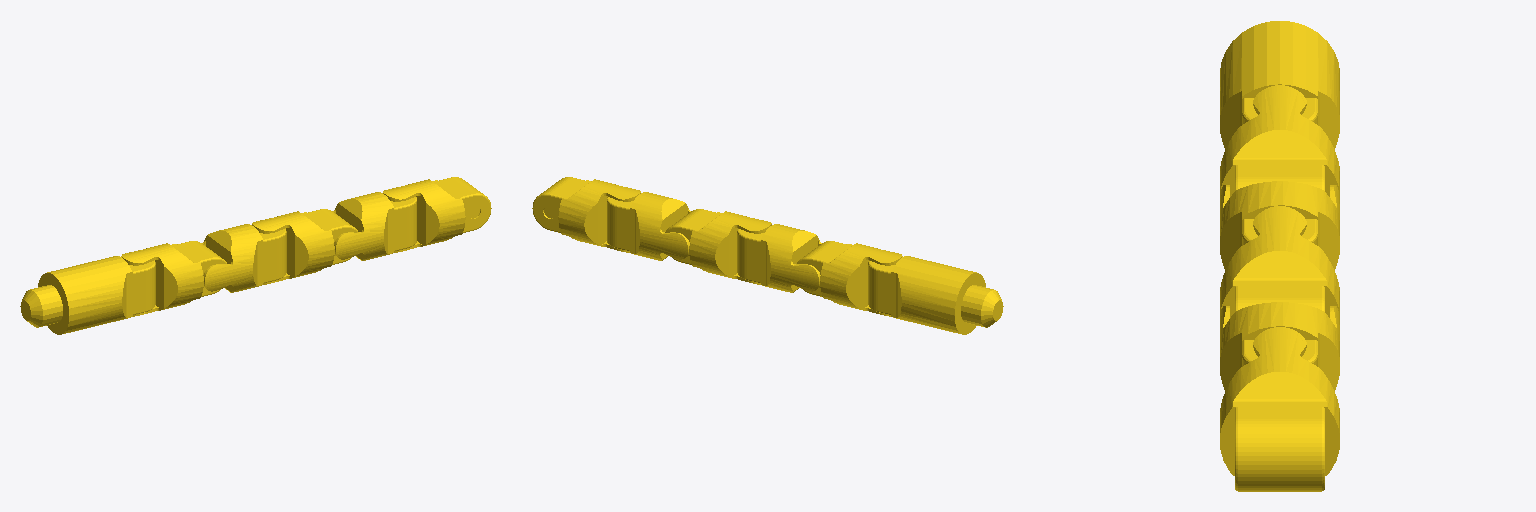
The robot description file, URDF, robot "kanake6":
<?xml version="1.0" encoding="utf-8"?>
<!-- This URDF was automatically created by SolidWorks to URDF Exporter! Originally created by Stephen Brawner (brawner@gmail.com) 
     Commit Version: 1.6.0-1-g15f4949  Build Version: 1.6.7594.29634
     For more information, please see http://wiki.ros.org/sw_urdf_exporter -->
<robot
  name="kanake6">
  <link
    name="tail">
    <inertial>
      <origin
        xyz="0.042357 2.0001E-08 -2.3091E-09"
        rpy="0 0 0" />
      <mass
        value="0.097262" />
      <inertia
        ixx="1.3388E-05"
        ixy="-1.0303E-11"
        ixz="1.1792E-12"
        iyy="4.4738E-05"
        iyz="-3.263E-13"
        izz="4.3885E-05" />
    </inertial>
    <visual>
      <origin
        xyz="0 0 0"
        rpy="0 0 0" />
      <geometry>
        <mesh
          filename="package://kanake6_sim/meshes/tail.STL" />
      </geometry>
      <material
        name="">
        <color
          rgba="1 0.8629 0.1568 1" />
      </material>
    </visual>
    <collision>
      <origin
        xyz="0 0 0"
        rpy="0 0 0" />
      <geometry>
        <mesh
          filename="package://kanake6_sim/meshes/tail.STL" />
      </geometry>
    </collision>
  </link>
  <link
    name="Link15">
    <inertial>
      <origin
        xyz="0.028014 -4.451E-09 2.2161E-08"
        rpy="0 0 0" />
      <mass
        value="0.06907" />
      <inertia
        ixx="9.6694E-06"
        ixy="-1.3944E-11"
        ixz="8.3913E-12"
        iyy="1.5822E-05"
        iyz="9.5867E-11"
        izz="1.5931E-05" />
    </inertial>
    <visual>
      <origin
        xyz="0 0 0"
        rpy="0 0 0" />
      <geometry>
        <mesh
          filename="package://kanake6_sim/meshes/Link15.STL" />
      </geometry>
      <material
        name="">
        <color
          rgba="1 0.8629 0.1568 1" />
      </material>
    </visual>
    <collision>
      <origin
        xyz="0 0 0"
        rpy="0 0 0" />
      <geometry>
        <mesh
          filename="package://kanake6_sim/meshes/Link15.STL" />
      </geometry>
    </collision>
  </link>
  <joint
    name="j16"
    type="revolute">
    <origin
      xyz="0.07155 0 0"
      rpy="0 0 0" />
    <parent
      link="tail" />
    <child
      link="Link15" />
    <axis
      xyz="1 0 0" />
    <limit
      lower="-1.57"
      upper="1.57"
      effort="10"
      velocity="10" />
  </joint>
  <link
    name="Link14">
    <inertial>
      <origin
        xyz="0.028014 -4.451E-09 2.2161E-08"
        rpy="0 0 0" />
      <mass
        value="0.06907" />
      <inertia
        ixx="9.6694E-06"
        ixy="-1.3944E-11"
        ixz="8.3913E-12"
        iyy="1.5822E-05"
        iyz="9.5867E-11"
        izz="1.5931E-05" />
    </inertial>
    <visual>
      <origin
        xyz="0 0 0"
        rpy="0 0 0" />
      <geometry>
        <mesh
          filename="package://kanake6_sim/meshes/Link14.STL" />
      </geometry>
      <material
        name="">
        <color
          rgba="1 0.8629 0.1568 1" />
      </material>
    </visual>
    <collision>
      <origin
        xyz="0 0 0"
        rpy="0 0 0" />
      <geometry>
        <mesh
          filename="package://kanake6_sim/meshes/Link14.STL" />
      </geometry>
    </collision>
  </link>
  <joint
    name="j15"
    type="revolute">
    <origin
      xyz="0.0426 0 0"
      rpy="-1.5708 0 0" />
    <parent
      link="Link15" />
    <child
      link="Link14" />
    <axis
      xyz="1 0 0" />
    <limit
      lower="-1.57"
      upper="1.57"
      effort="10"
      velocity="10" />
  </joint>
  <link
    name="Link13">
    <inertial>
      <origin
        xyz="0.028014 -4.451E-09 2.2161E-08"
        rpy="0 0 0" />
      <mass
        value="0.06907" />
      <inertia
        ixx="9.6694E-06"
        ixy="-1.3944E-11"
        ixz="8.3913E-12"
        iyy="1.5822E-05"
        iyz="9.5867E-11"
        izz="1.5931E-05" />
    </inertial>
    <visual>
      <origin
        xyz="0 0 0"
        rpy="0 0 0" />
      <geometry>
        <mesh
          filename="package://kanake6_sim/meshes/Link13.STL" />
      </geometry>
      <material
        name="">
        <color
          rgba="1 0.8629 0.1568 1" />
      </material>
    </visual>
    <collision>
      <origin
        xyz="0 0 0"
        rpy="0 0 0" />
      <geometry>
        <mesh
          filename="package://kanake6_sim/meshes/Link13.STL" />
      </geometry>
    </collision>
  </link>
  <joint
    name="j14"
    type="revolute">
    <origin
      xyz="0.0426 0 0"
      rpy="1.5708 0 0" />
    <parent
      link="Link14" />
    <child
      link="Link13" />
    <axis
      xyz="0 0 1" />
    <limit
      lower="-1.57"
      upper="1.57"
      effort="10"
      velocity="10" />
  </joint>
  <link
    name="Link12">
    <inertial>
      <origin
        xyz="0.028014 -4.451E-09 2.2161E-08"
        rpy="0 0 0" />
      <mass
        value="0.06907" />
      <inertia
        ixx="9.6694E-06"
        ixy="-1.3944E-11"
        ixz="8.3913E-12"
        iyy="1.5822E-05"
        iyz="9.5867E-11"
        izz="1.5931E-05" />
    </inertial>
    <visual>
      <origin
        xyz="0 0 0"
        rpy="0 0 0" />
      <geometry>
        <mesh
          filename="package://kanake6_sim/meshes/Link12.STL" />
      </geometry>
      <material
        name="">
        <color
          rgba="1 0.8629 0.1568 1" />
      </material>
    </visual>
    <collision>
      <origin
        xyz="0 0 0"
        rpy="0 0 0" />
      <geometry>
        <mesh
          filename="package://kanake6_sim/meshes/Link12.STL" />
      </geometry>
    </collision>
  </link>
  <joint
    name="j13"
    type="revolute">
    <origin
      xyz="0.0426 0 0"
      rpy="-1.5708 0 0" />
    <parent
      link="Link13" />
    <child
      link="Link12" />
    <axis
      xyz="1 0 0" />
    <limit
      lower="-1.57"
      upper="1.57"
      effort="10"
      velocity="10" />
  </joint>
  <link
    name="Link11">
    <inertial>
      <origin
        xyz="0.028014 -4.451E-09 2.2161E-08"
        rpy="0 0 0" />
      <mass
        value="0.06907" />
      <inertia
        ixx="9.6694E-06"
        ixy="-1.3944E-11"
        ixz="8.3913E-12"
        iyy="1.5822E-05"
        iyz="9.5867E-11"
        izz="1.5931E-05" />
    </inertial>
    <visual>
      <origin
        xyz="0 0 0"
        rpy="0 0 0" />
      <geometry>
        <mesh
          filename="package://kanake6_sim/meshes/Link11.STL" />
      </geometry>
      <material
        name="">
        <color
          rgba="1 0.8629 0.1568 1" />
      </material>
    </visual>
    <collision>
      <origin
        xyz="0 0 0"
        rpy="0 0 0" />
      <geometry>
        <mesh
          filename="package://kanake6_sim/meshes/Link11.STL" />
      </geometry>
    </collision>
  </link>
  <joint
    name="j12"
    type="revolute">
    <origin
      xyz="0.0426 0 0"
      rpy="1.5708 0 0" />
    <parent
      link="Link12" />
    <child
      link="Link11" />
    <axis
      xyz="0 0 1" />
    <limit
      lower="-1.57"
      upper="1.57"
      effort="10"
      velocity="10" />
   </joint>
</robot>

--- Render facts (derived) ---
The picture shows the robot from 3 angles, left to right: view 1: azimuth 30°, elevation 25°; view 2: azimuth 150°, elevation 25°; view 3: azimuth 270°, elevation 25°; orthographic projection.
Model kanake6 with 6 links and 5 joints (5 revolute), rooted at tail, posed every joint at zero.
Links seen in each view (by area): view 1: tail, Link14, Link11, Link12, Link15, Link13; view 2: tail, Link14, Link11, Link12, Link15, Link13; view 3: Link11, tail, Link15, Link13, Link12, Link14.
Link boxes in pixels (left/top/right/bottom): tail: left=20, top=256, right=155, bottom=334; Link14: left=202, top=224, right=286, bottom=292; Link11: left=383, top=177, right=491, bottom=252; Link12: left=333, top=192, right=416, bottom=260; Link15: left=122, top=241, right=226, bottom=316; Link13: left=252, top=209, right=358, bottom=284; tail: left=868, top=256, right=1003, bottom=334; Link14: left=737, top=224, right=821, bottom=292; Link11: left=532, top=177, right=640, bottom=252; Link12: left=607, top=192, right=690, bottom=260; Link15: left=797, top=241, right=901, bottom=316; Link13: left=665, top=209, right=771, bottom=284; Link11: left=1220, top=327, right=1339, bottom=491; tail: left=1220, top=21, right=1339, bottom=148; Link15: left=1220, top=85, right=1339, bottom=196; Link13: left=1220, top=206, right=1339, bottom=317; Link12: left=1220, top=302, right=1339, bottom=390; Link14: left=1220, top=181, right=1339, bottom=269.
Bounding box of the posed robot: 0.2959 × 0.036 × 0.036 m (x, y, z).
Meshes: 6 distinct files referenced, 6 mesh visuals loaded (6 binary STL).
